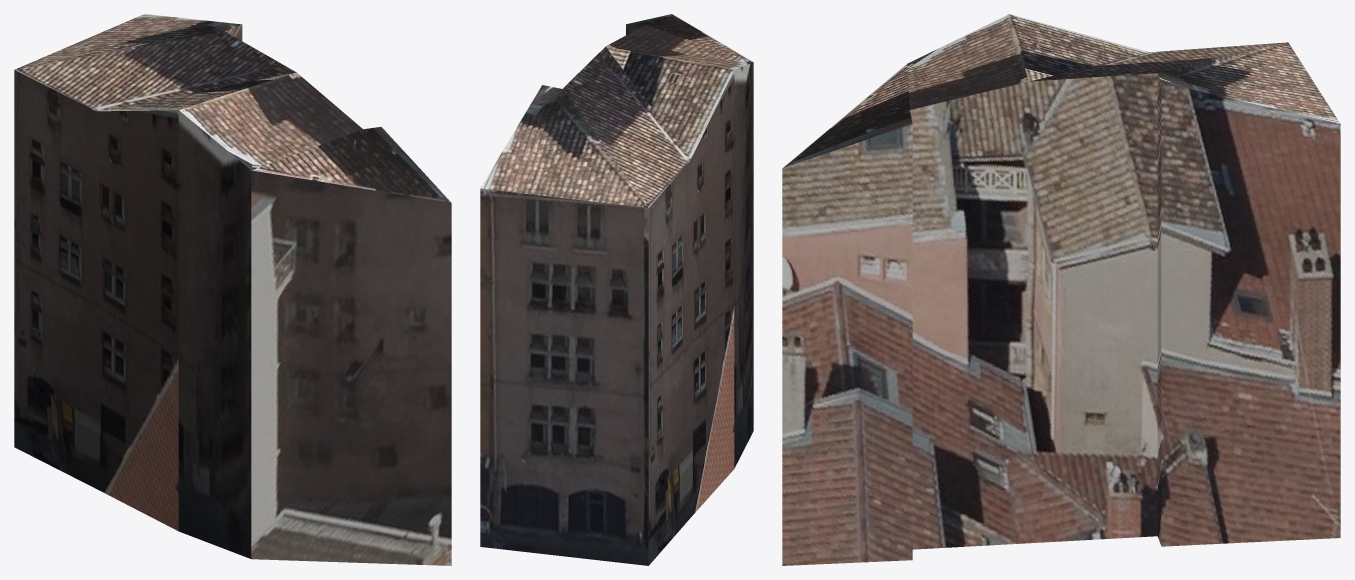
3 renders of one model, left to right at view 1: azimuth 30°, elevation 25°; view 2: azimuth 150°, elevation 25°; view 3: azimuth 270°, elevation 25°, orthographic. The views are drawn at different scales.
Visible parts, largest first — view 1: Z_UP; view 2: Z_UP; view 3: Z_UP.
Boxes of the visible parts, x1,y1,x2,y2 form: Z_UP: [14, 14, 451, 565]; Z_UP: [480, 14, 753, 565]; Z_UP: [782, 14, 1340, 565].
Bounding box in the file's own units: 8.98 × 17.62 × 19.21.
Materials: 2 (1 with a texture image).
